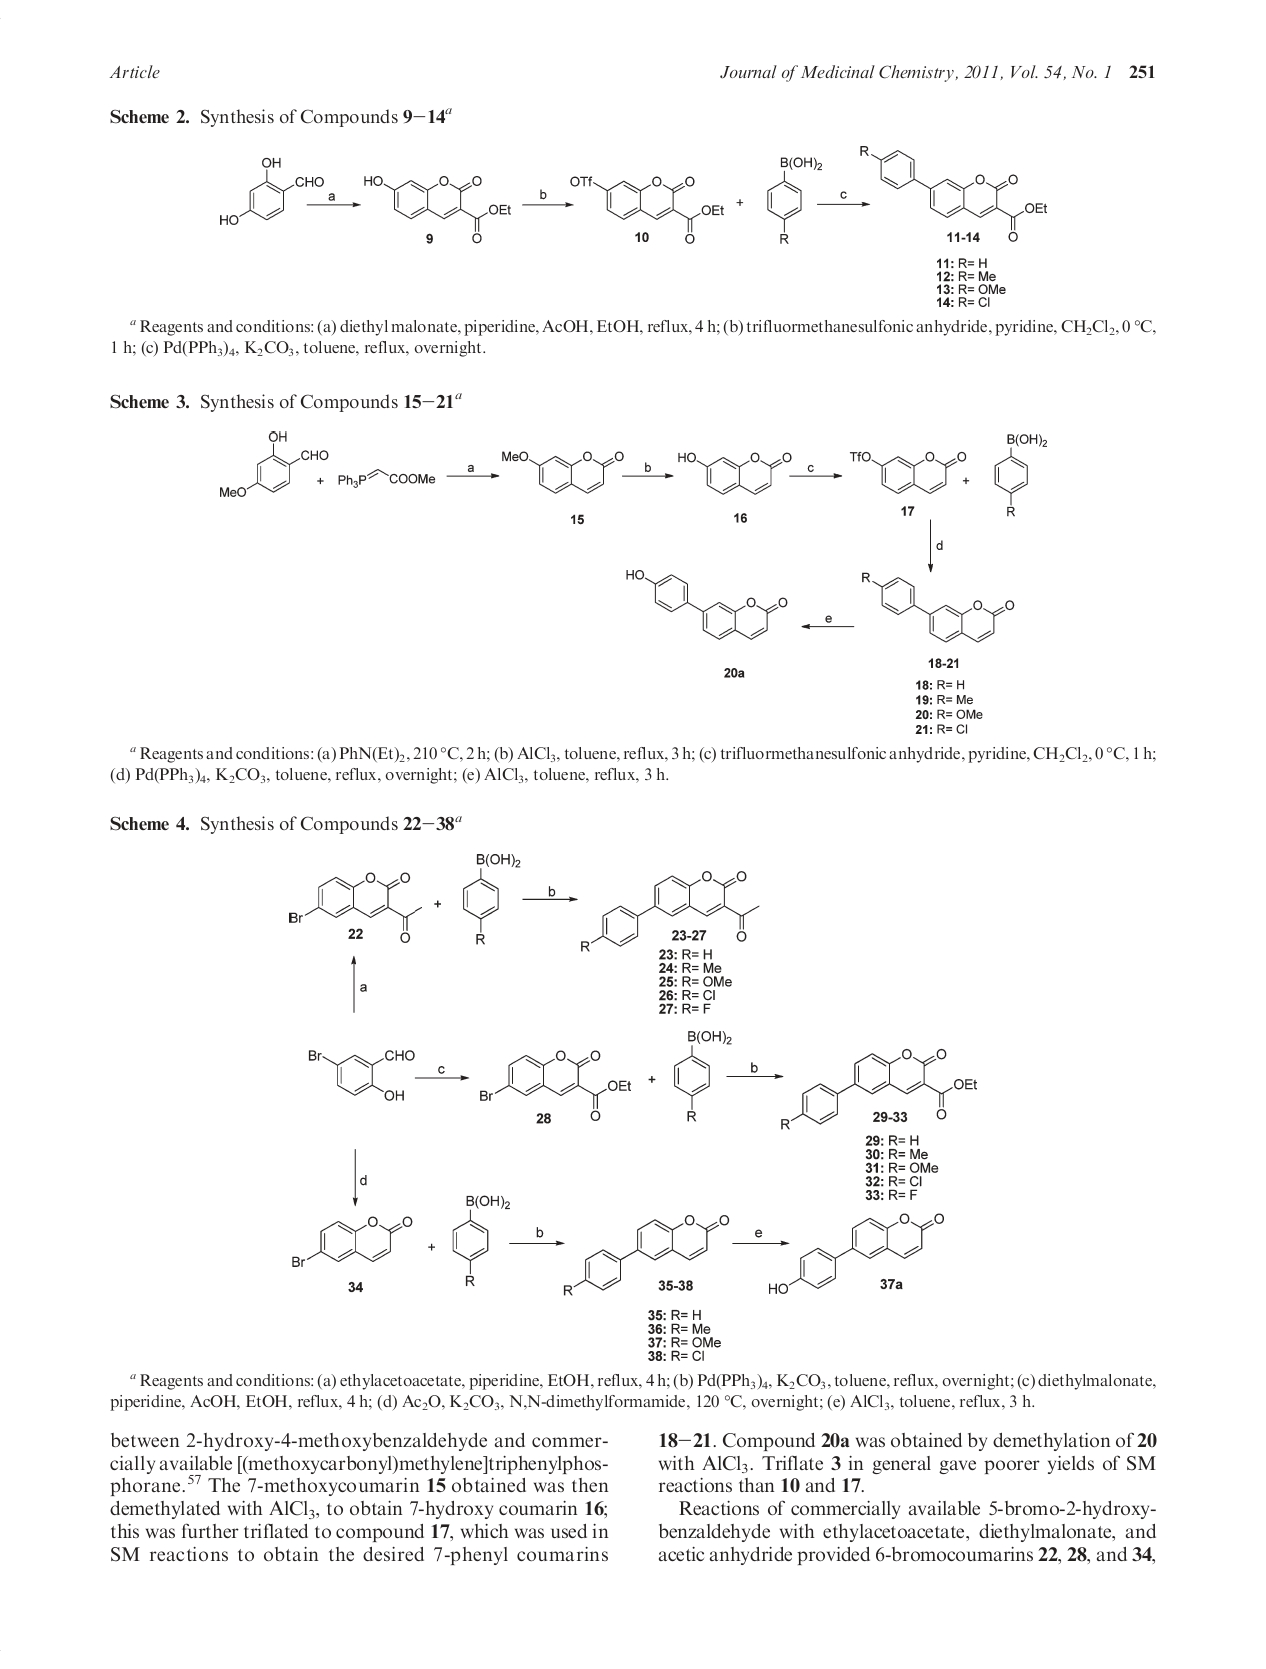exist_molecular: (856, 140, 1051, 243), (774, 1047, 979, 1129), (577, 867, 761, 952), (765, 1212, 946, 1294), (557, 1212, 729, 1297), (621, 564, 789, 644), (856, 567, 1015, 649), (567, 169, 726, 246), (362, 170, 512, 247), (475, 1048, 630, 1122), (286, 870, 427, 942), (217, 156, 326, 227), (215, 430, 327, 499), (286, 1213, 414, 1267), (844, 442, 969, 495), (447, 1189, 512, 1289), (306, 1045, 416, 1104), (459, 848, 523, 950), (669, 1025, 731, 1125), (676, 446, 794, 497), (500, 446, 624, 493), (765, 150, 824, 247), (993, 430, 1049, 523), (334, 463, 442, 493)
